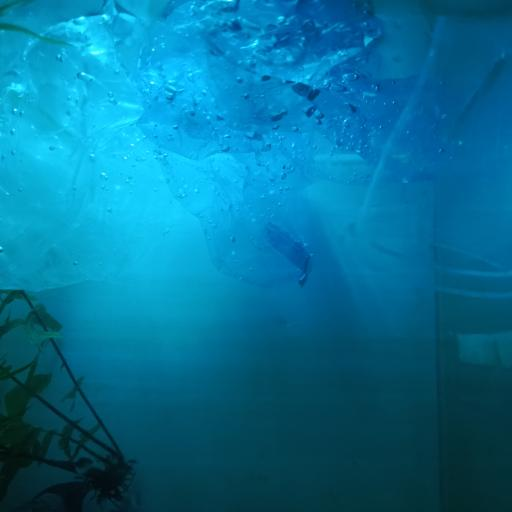plastic_bag: (1, 1, 466, 288)
plastic_cup: (344, 0, 512, 294)
